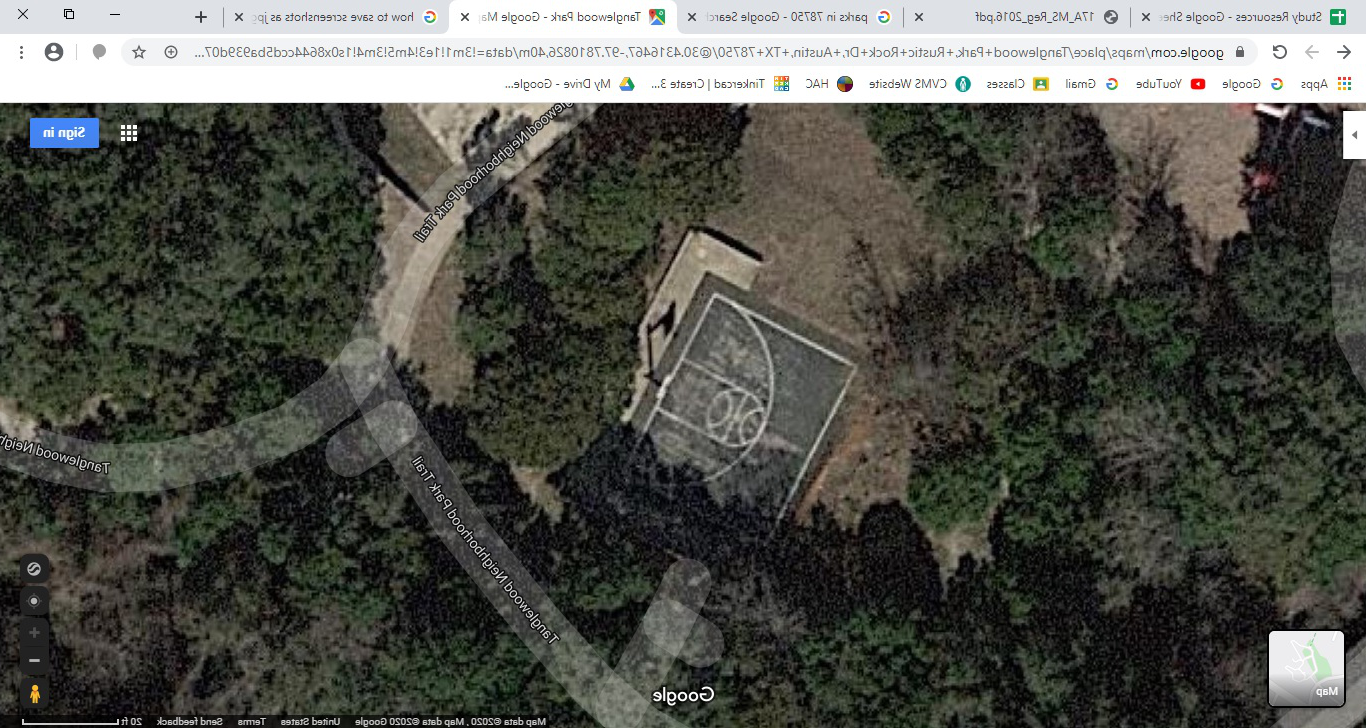basketball: (558, 250, 932, 566)
